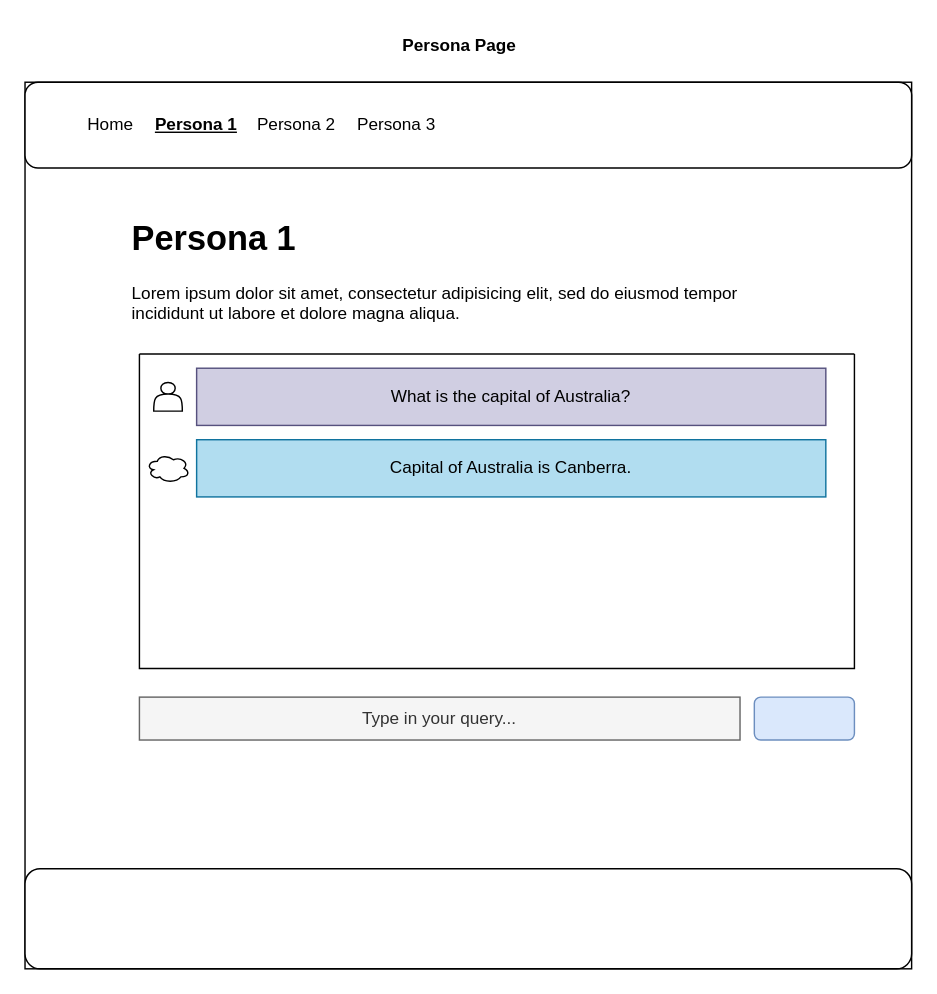
This 937x994 diagram has some shape labels left out. Each missing label, with the centre of its shape:
Footer: [468,918]
Send: [803,718]
